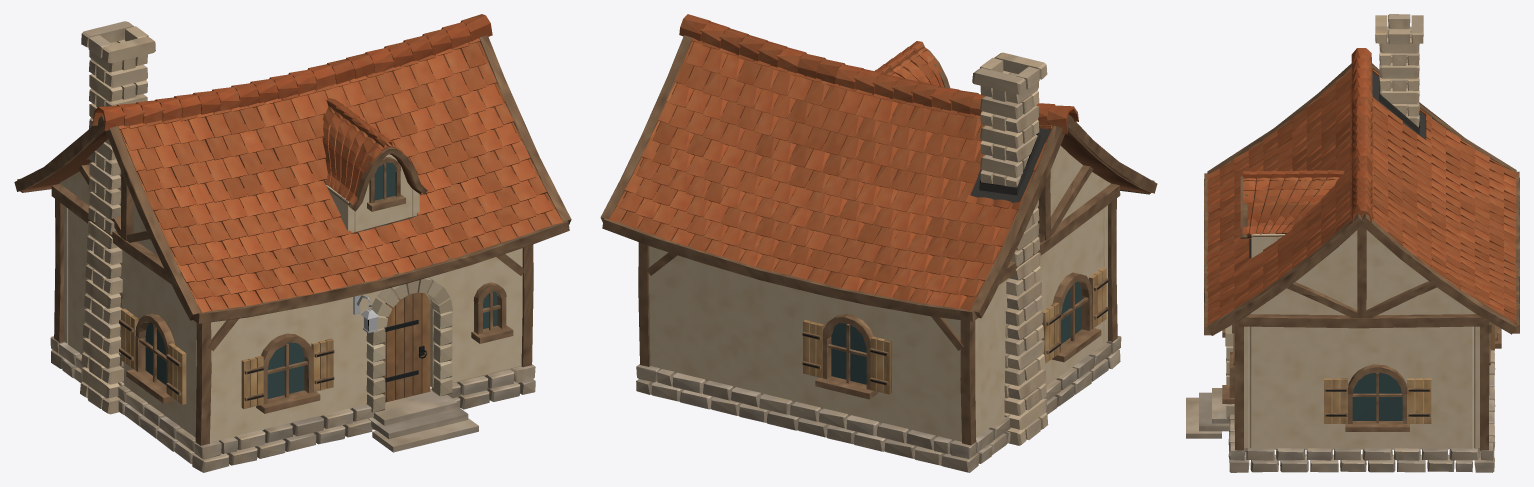
File: house_LOD2.fbx
3 views of the same model, side by side, from view 1: azimuth 30°, elevation 25°; view 2: azimuth 150°, elevation 25°; view 3: azimuth 270°, elevation 25° (orthographic). The views are drawn at different scales.
Parts seen in each view (by area): view 1: BLD_House_Cottage_A_LOD2; view 2: BLD_House_Cottage_A_LOD2; view 3: BLD_House_Cottage_A_LOD2.
Boxes of the visible parts, x1,y1,x2,y2 form: BLD_House_Cottage_A_LOD2: [14, 14, 571, 472]; BLD_House_Cottage_A_LOD2: [600, 14, 1157, 472]; BLD_House_Cottage_A_LOD2: [1186, 14, 1519, 472].
Size of the model in its own units: 748 by 668 by 643.
